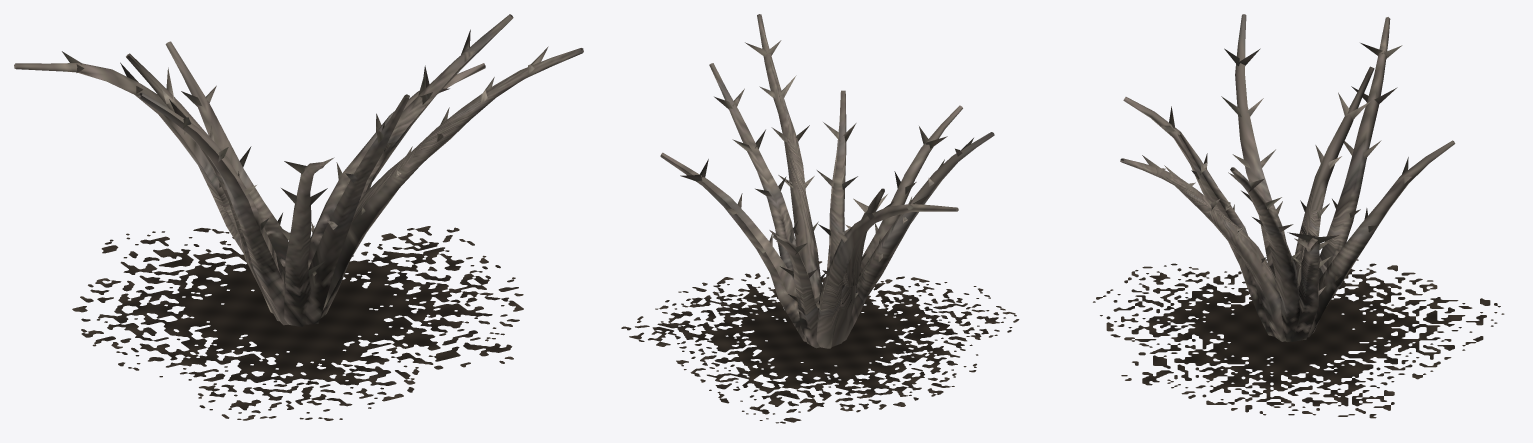
Rendered from bush_thorn_01.glb.
3 renders of one model, left to right at view 1: azimuth 30°, elevation 25°; view 2: azimuth 150°, elevation 25°; view 3: azimuth 270°, elevation 25°, orthographic. The views are drawn at different scales.
Visible parts, largest first — view 1: bush_thorn_01; view 2: bush_thorn_01; view 3: bush_thorn_01.
Boxes of the visible parts, x1,y1,x2,y2 form: bush_thorn_01: [14, 14, 583, 420]; bush_thorn_01: [621, 14, 1019, 423]; bush_thorn_01: [1093, 14, 1504, 418].
Size of the model in its own units: 1.25 by 0.7751 by 1.25.
2 materials, 2 textured.
